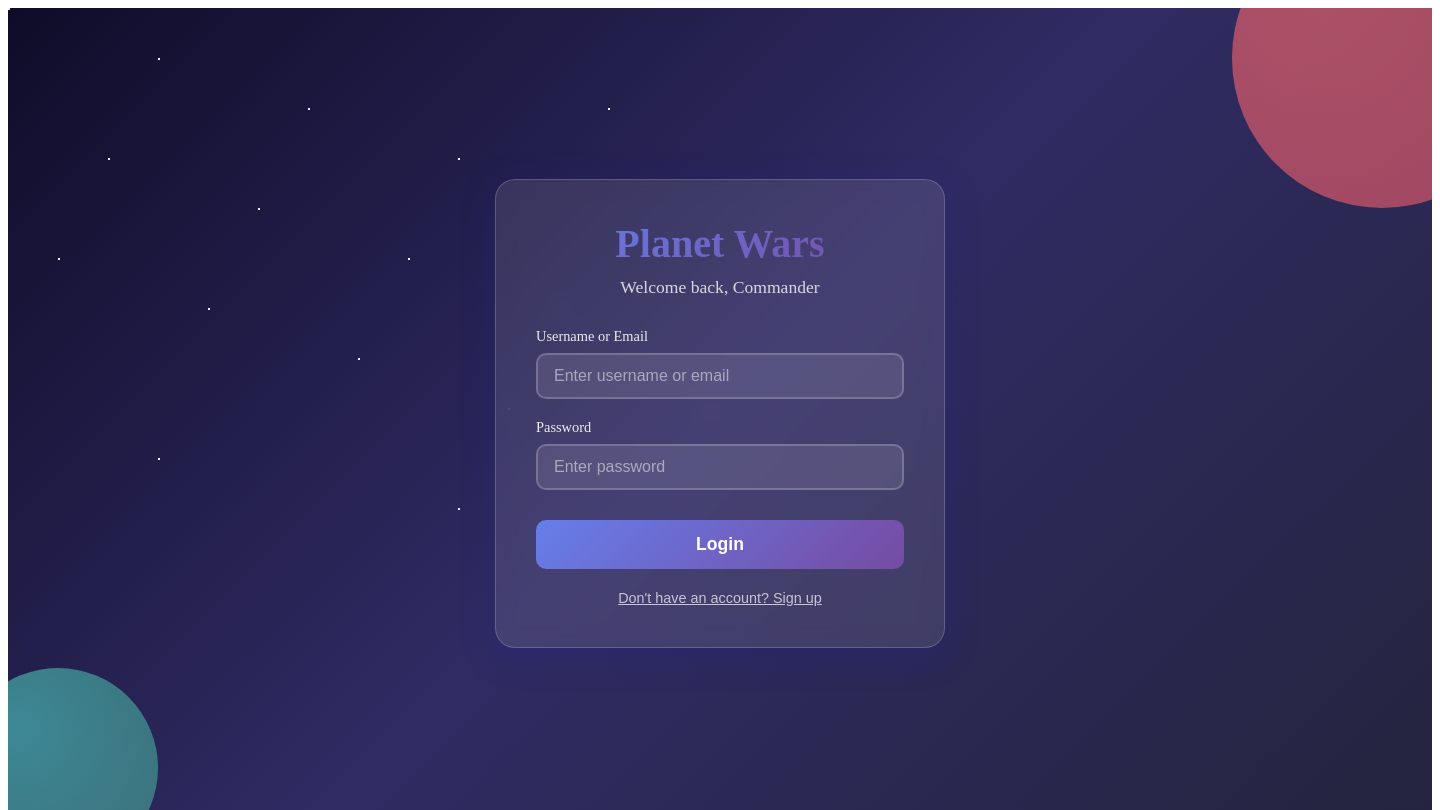
Test case: AuthPage › switches to signup form
The width and height of the screenshot is (1440, 810).
Click the button "Don't have an account? Sign up": (720, 598) x1=612 y1=588 x2=828 y2=606
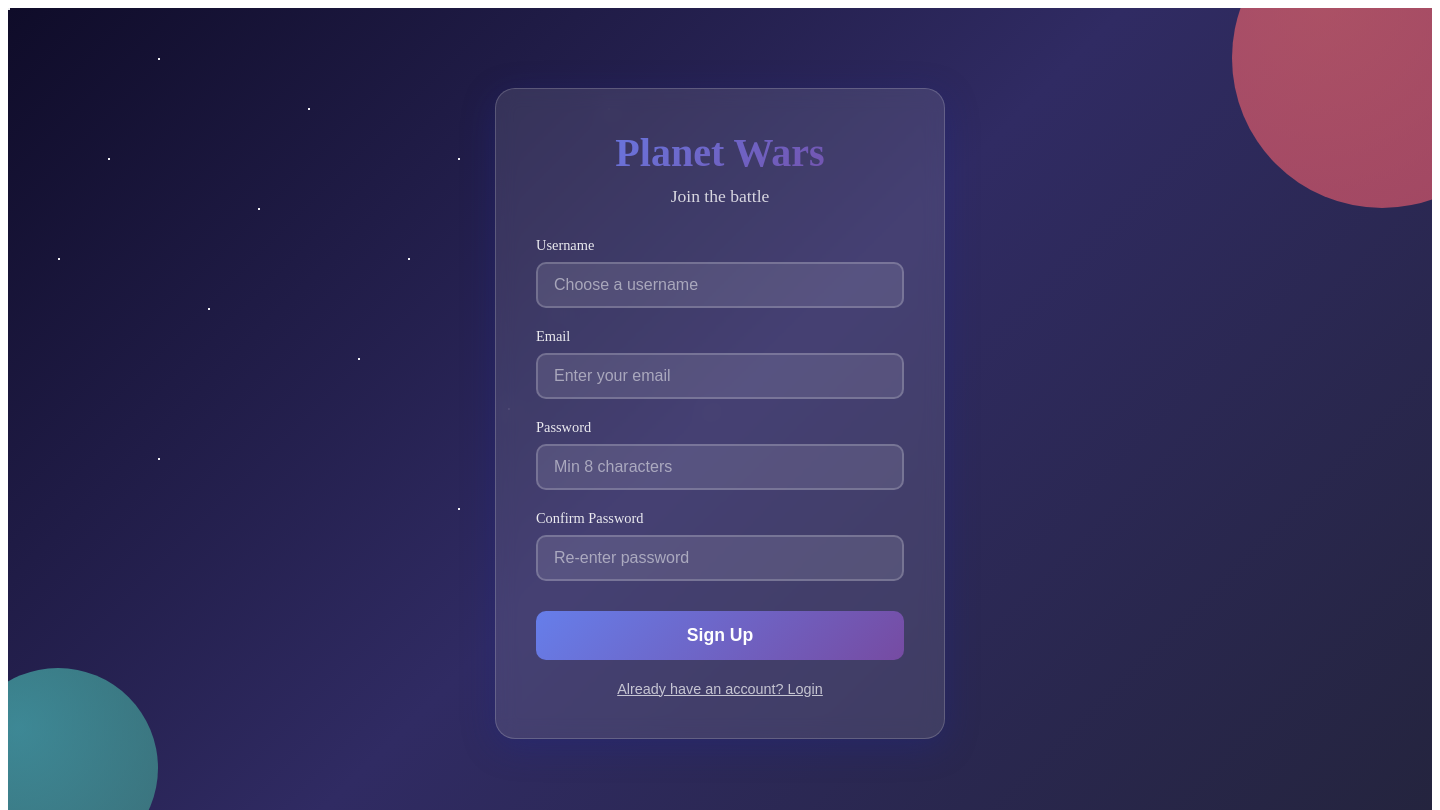
expect the field with placeholder "Choose a username" is shown: met, box x1=536 y1=262 x2=904 y2=308
expect the field with placeholder "Enter your email" is shown: met, box x1=536 y1=352 x2=904 y2=398
expect the button "Sign Up" is shown: met, box x1=536 y1=610 x2=904 y2=660
